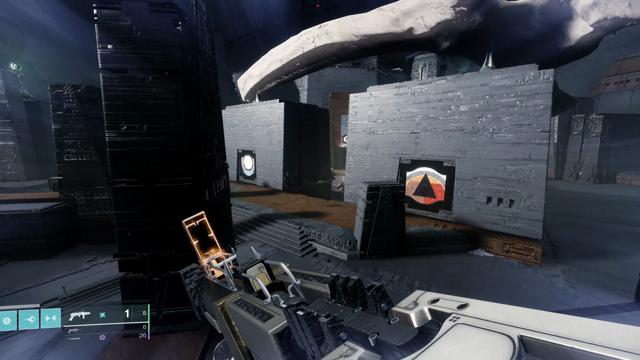pyramid: (406, 167, 447, 205)
traveler: (241, 154, 255, 177)
worship: (344, 136, 347, 143)
